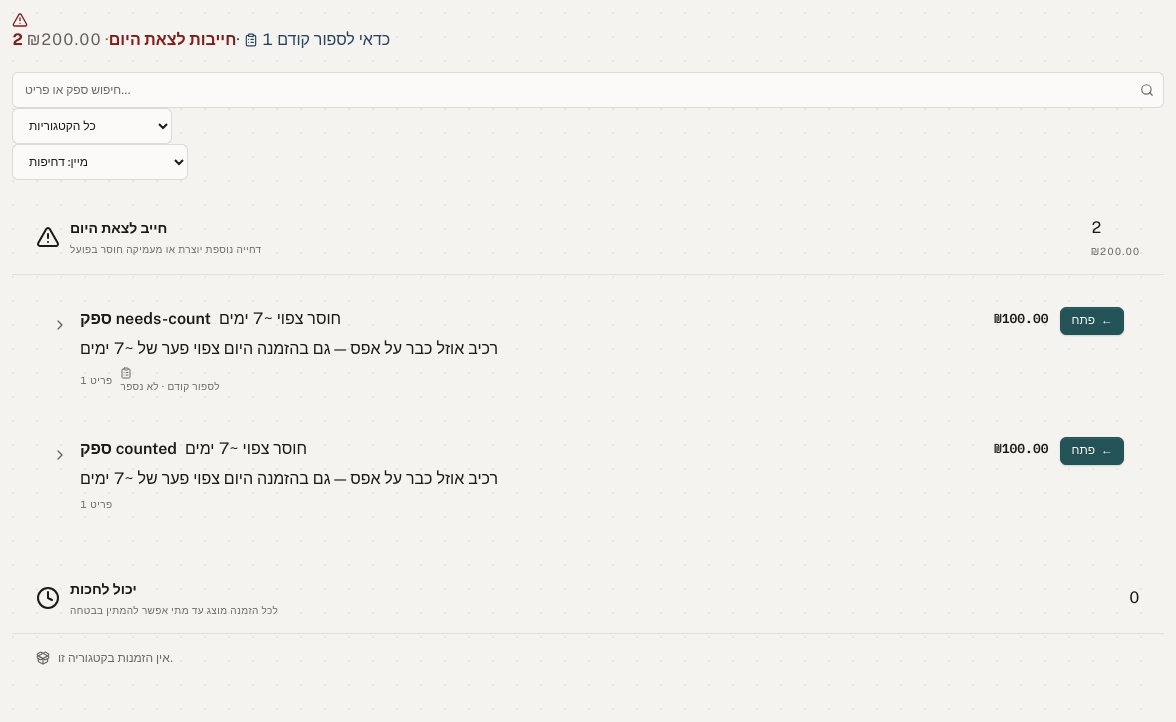
Test: ActionList › L10 the bucket filter can narrow to recount-needed rows only
Select "לספור קודם" in the dropdown with test id "procurement-filter-bucket" at (92,126), box [12,108,172,144]
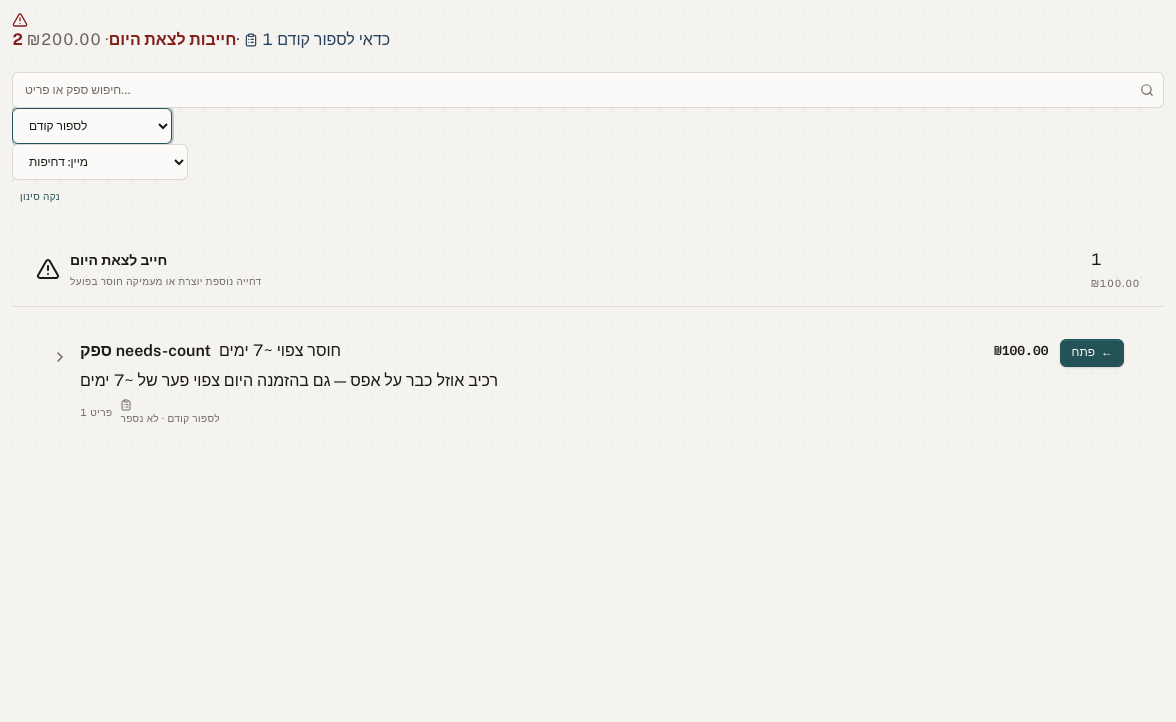
Check: the element with test id "procurement-row-needs-count" is shown, box [36,323,1140,441]
Check: the element with test id "procurement-row-counted" is gone
